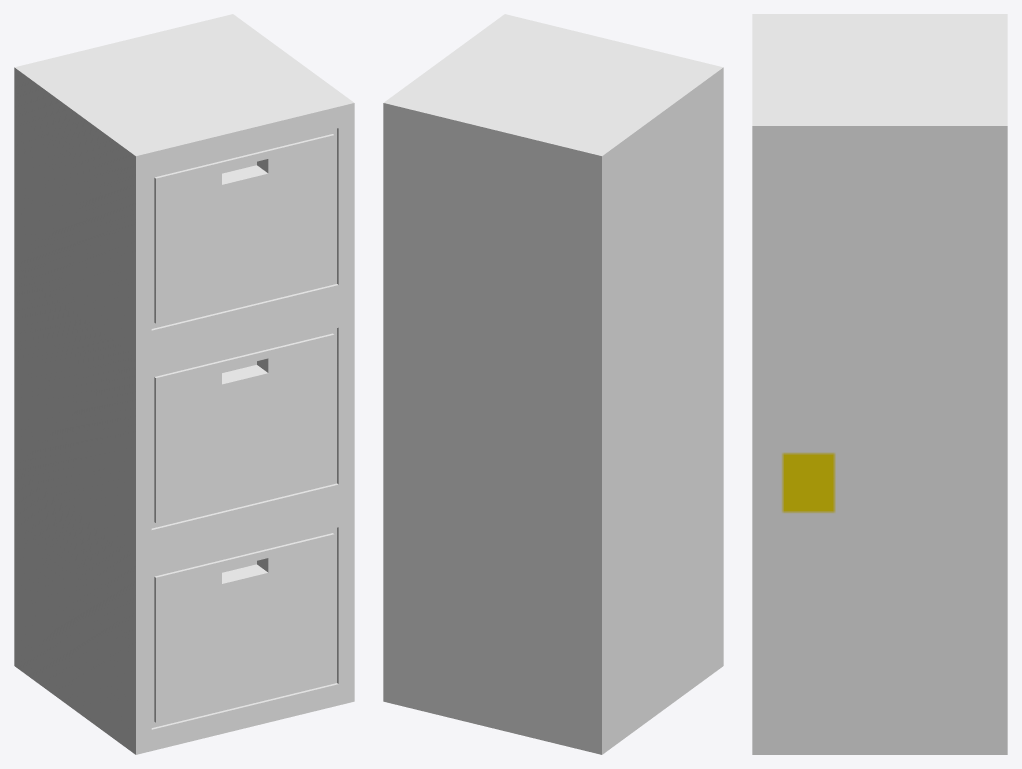
File: 3number.fbx
The picture shows the model from 3 angles, left to right: view 1: azimuth 30°, elevation 25°; view 2: azimuth 150°, elevation 25°; view 3: azimuth 270°, elevation 25°; orthographic projection. The views are drawn at different scales.
Visible parts, largest first — view 1: Drawer1.001; view 2: Drawer1.001; view 3: Drawer1.001.
Boxes of the visible parts, x1,y1,x2,y2 form: Drawer1.001: [14, 14, 354, 754]; Drawer1.001: [383, 14, 723, 754]; Drawer1.001: [752, 14, 1007, 754].
Size of the model in its own units: 129 by 338 by 124.
